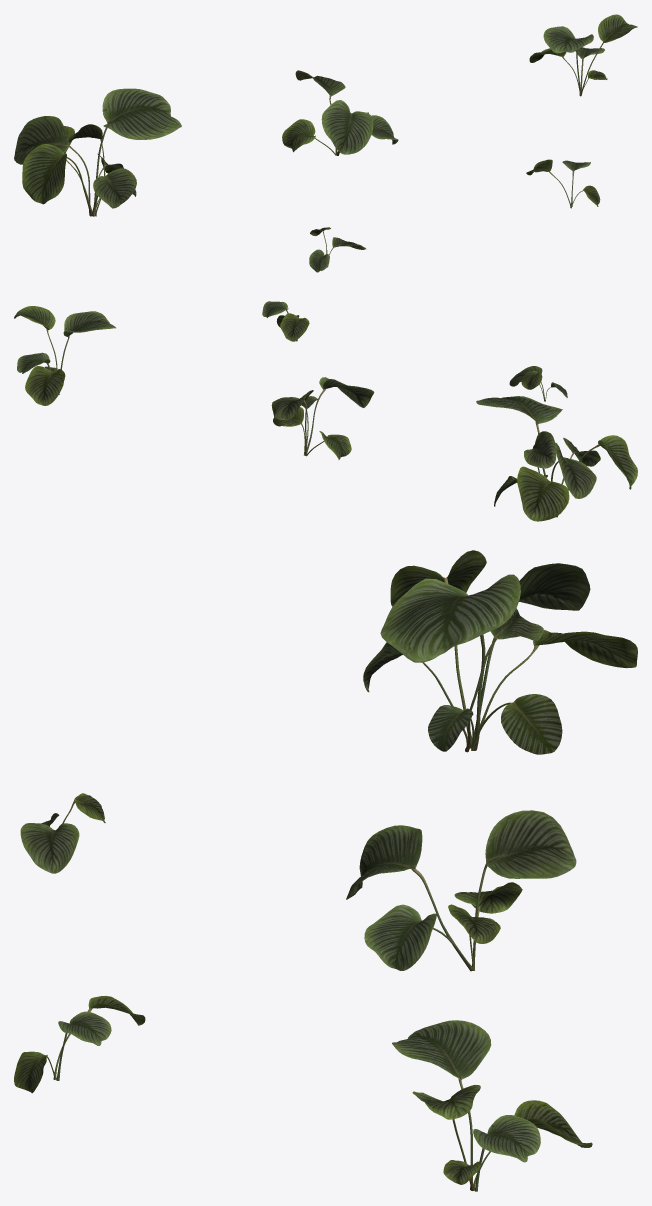
File: calathea_orbifolia_01.gltf
The picture shows the model from 3 angles, top to bottom: view 1: azimuth 30°, elevation 25°; view 2: azimuth 150°, elevation 25°; view 3: azimuth 270°, elevation 25°; orthographic projection. The views are drawn at different scales.
Visible parts, largest first — view 1: lod0 (×5); view 2: lod0 (×5); view 3: lod0 (×5).
Part boxes in pixels (box(x1,y1,x2,y2)): lod0 (×5): box(14, 14, 637, 272); lod0 (×5): box(14, 301, 637, 521); lod0 (×5): box(14, 550, 637, 1191).
Size of what is drawn, in the model's own units: 2.49 by 0.4243 by 1.19.
Materials: 1 (1 with a texture image).
